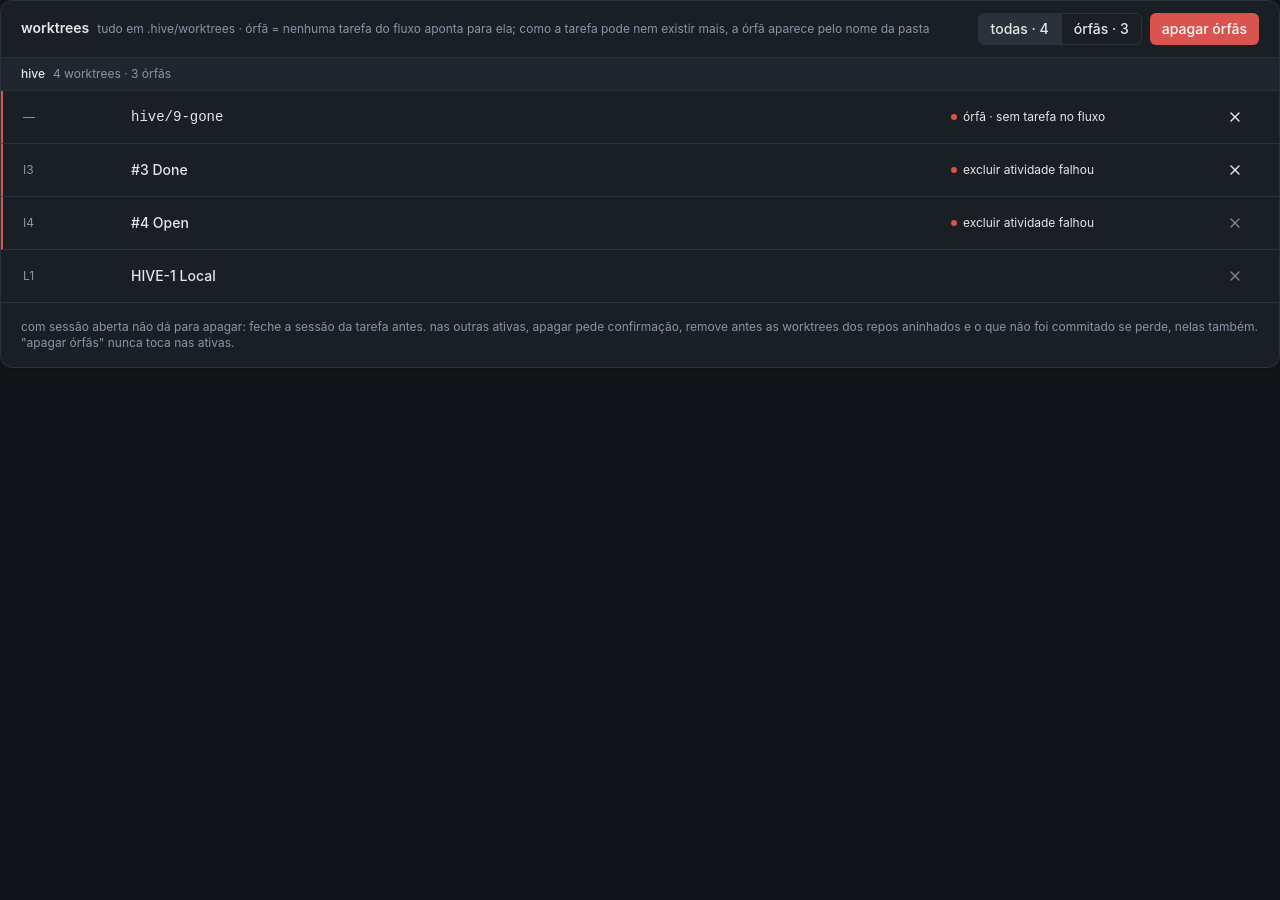
it: apagar órfãs confirms with the count and posts each cleanable orphan without force, one after another; shows removed and refused; reloads (#181, #513)
Expected: the text "hive/9-gone" is shown, [131,109,223,125]
Click the button "apagar órfãs". click: coordinates (1204, 29)
box: [1150,13,1259,45]
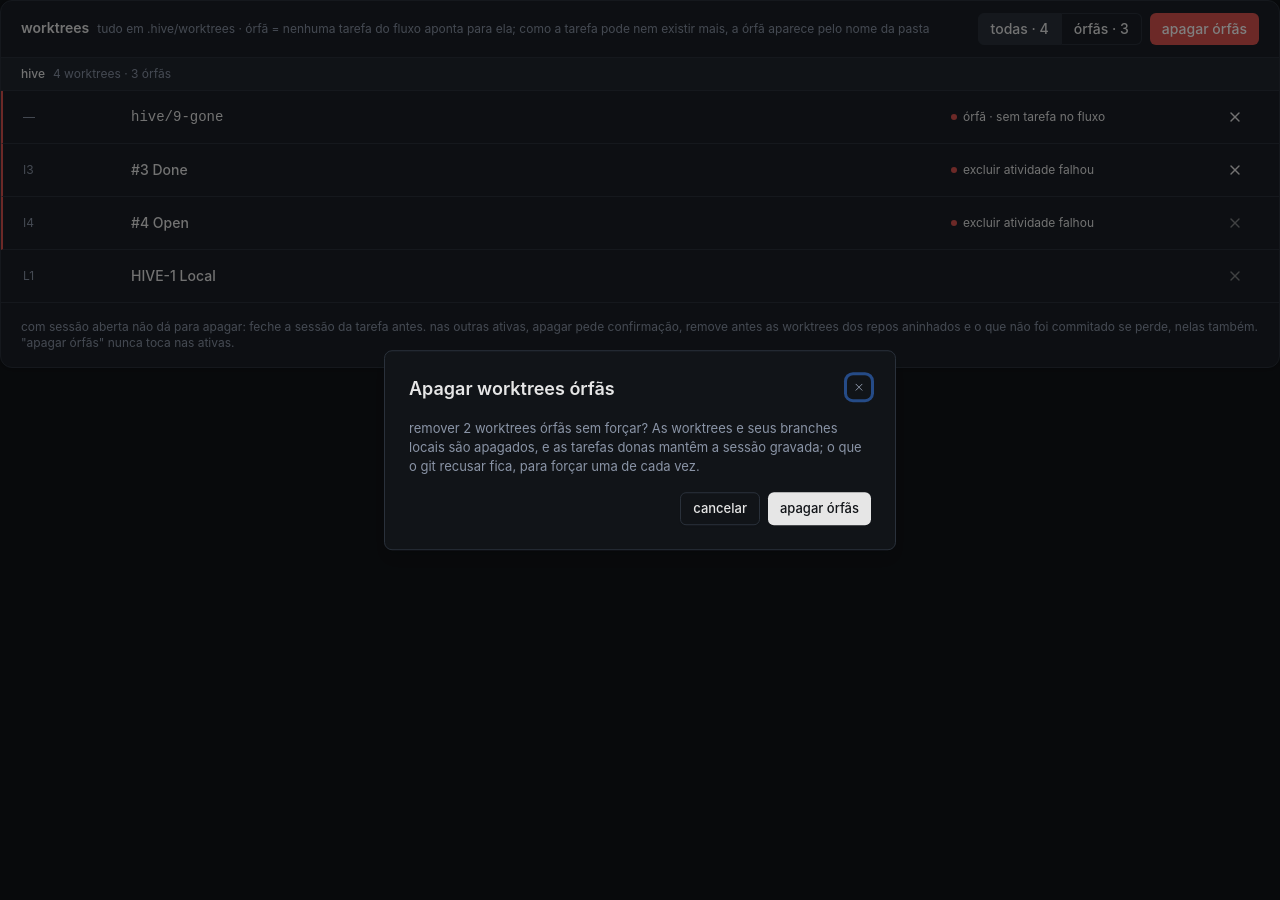
Result: the dialog shows "remover 2 worktrees órfãs sem forçar?" at [409,420,865,474]
Click the button "apagar órfãs". click: coordinates (819, 508)
box: [768,492,871,525]
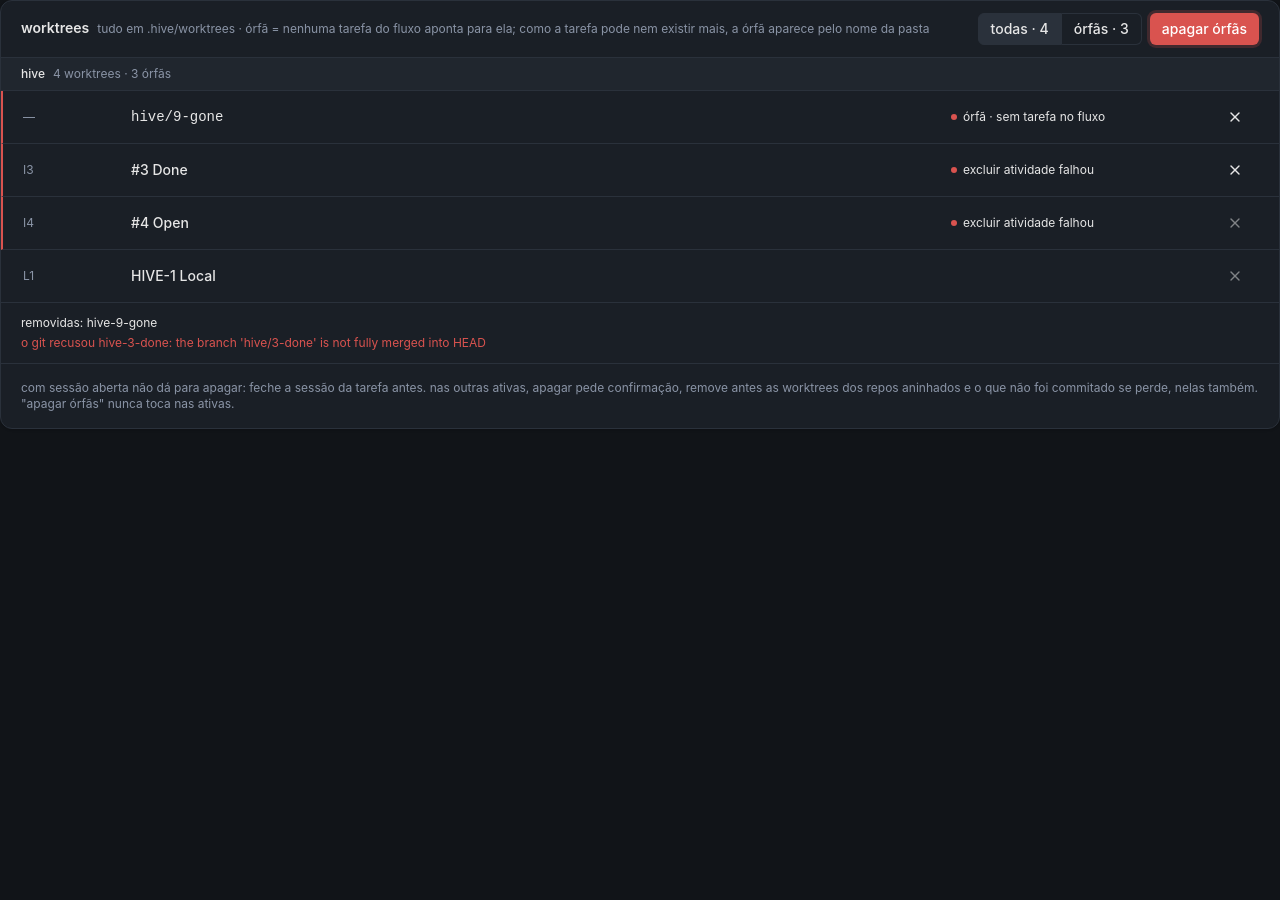
Result: the text "removidas: hive-9-gone" is shown at [21,315,157,330]
